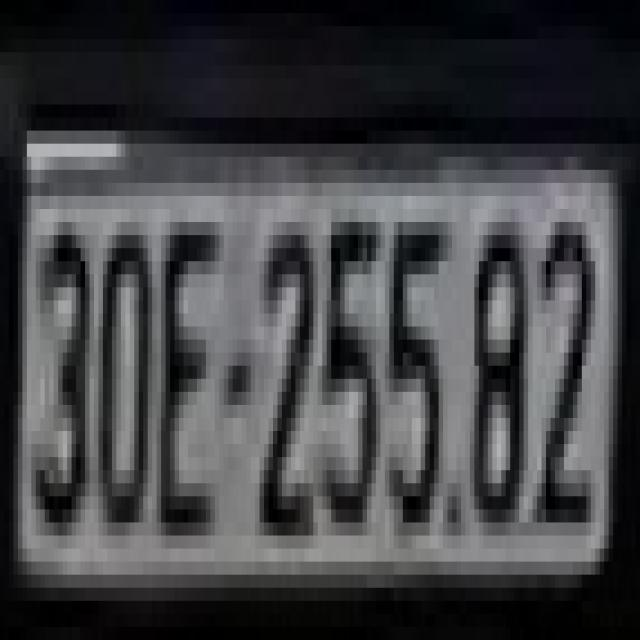0: (94, 222, 152, 536)
2: (255, 222, 313, 536), (537, 209, 595, 522)
3: (32, 222, 90, 536)
5: (322, 209, 380, 535), (385, 209, 443, 522)
8: (470, 222, 524, 522)
E: (156, 222, 224, 536)
